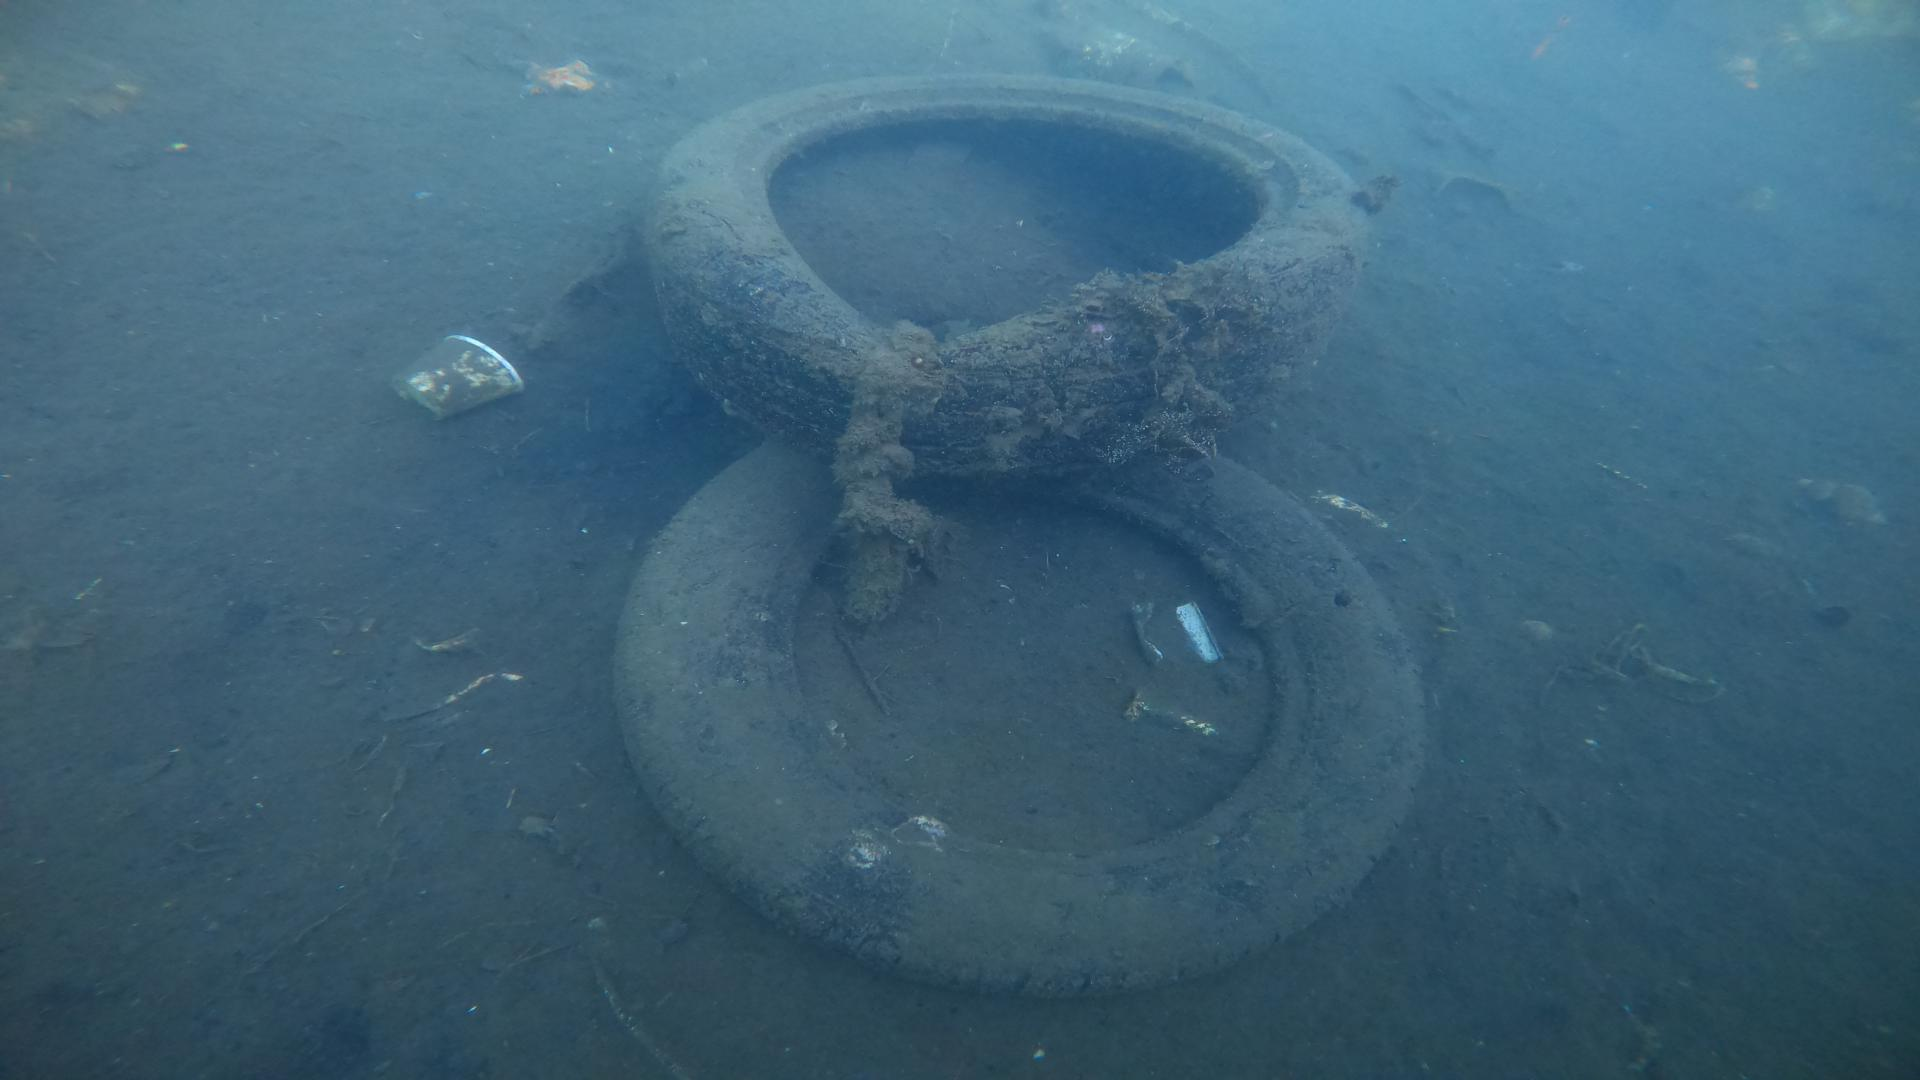bundle of ropes: (819, 310, 949, 636)
tire: (618, 371, 1427, 992), (636, 63, 1369, 479)
